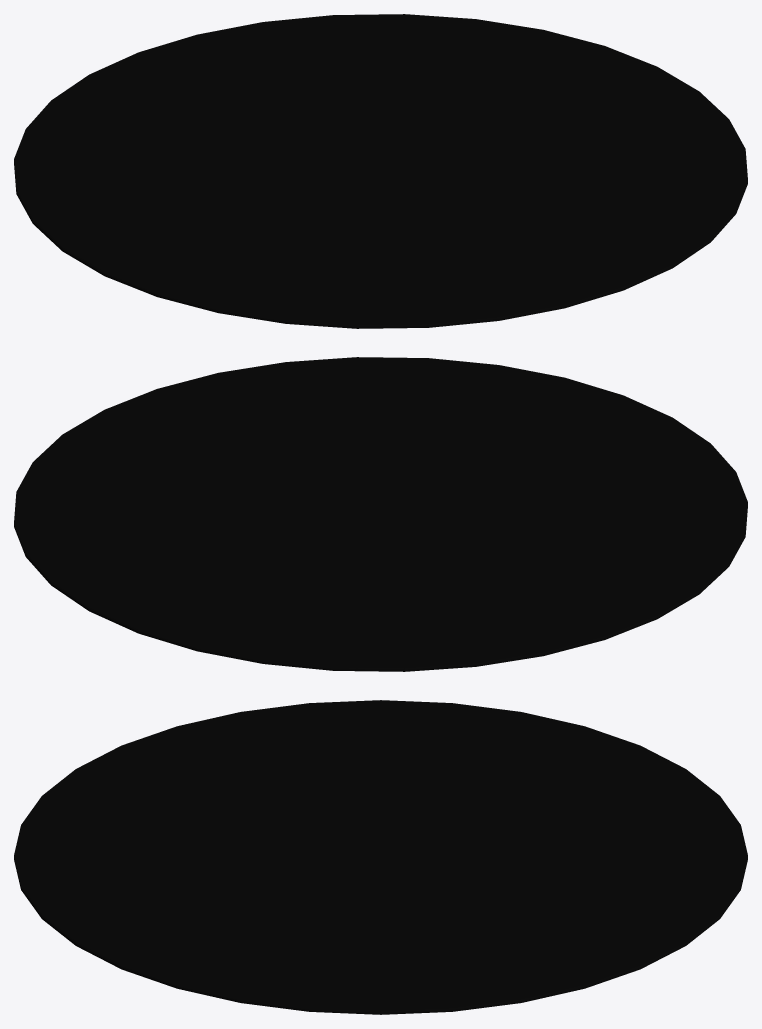
The model's file is SuckCircle.fbx.
3 views of the same model, one above another, from view 1: azimuth 30°, elevation 25°; view 2: azimuth 150°, elevation 25°; view 3: azimuth 270°, elevation 25° (orthographic).
Parts seen in each view (by area): view 1: Circle2; view 2: Circle2; view 3: Circle2.
Boxes of the visible parts, box(x1,y1,x2,y2) form: Circle2: box(14, 14, 747, 328); Circle2: box(14, 357, 747, 671); Circle2: box(14, 700, 747, 1014).
Bounding box in the file's own units: 626 × 4.25 × 626.
